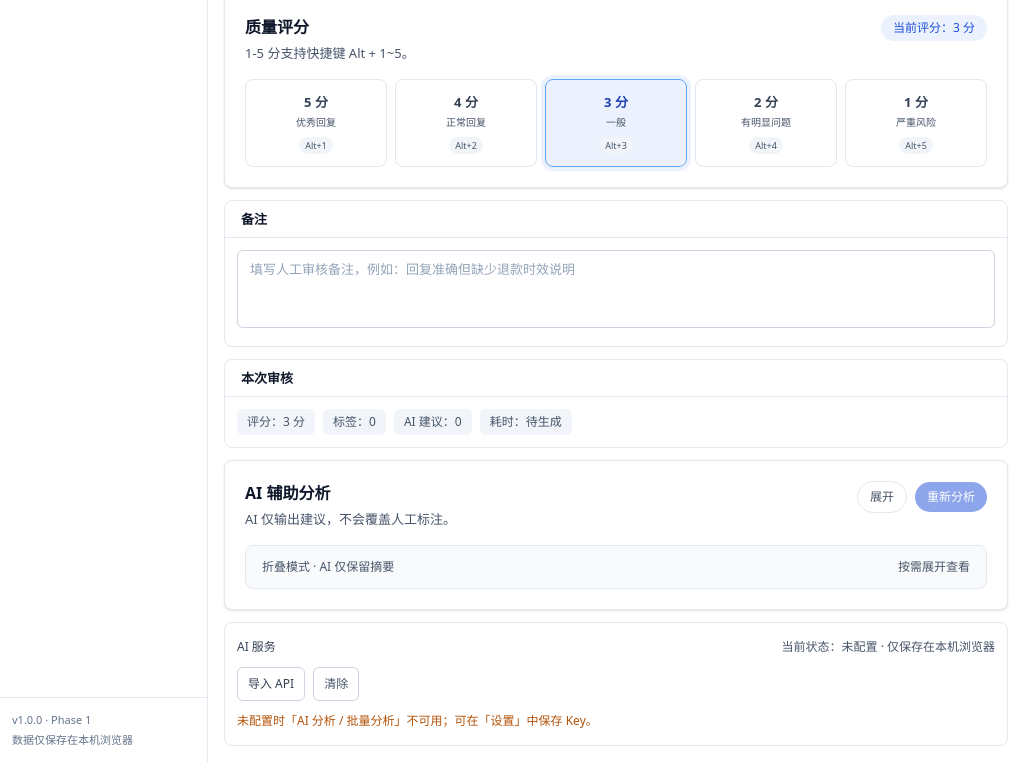
Test: F. AI 分析 › 点击「清除」→ Key 状态回到未配置、AI 分析按钮重新禁用
The image size is (1024, 762).
(page scrolled)
Click the button "导入 API": (271, 684) [237,667,305,701]
(page scrolled)
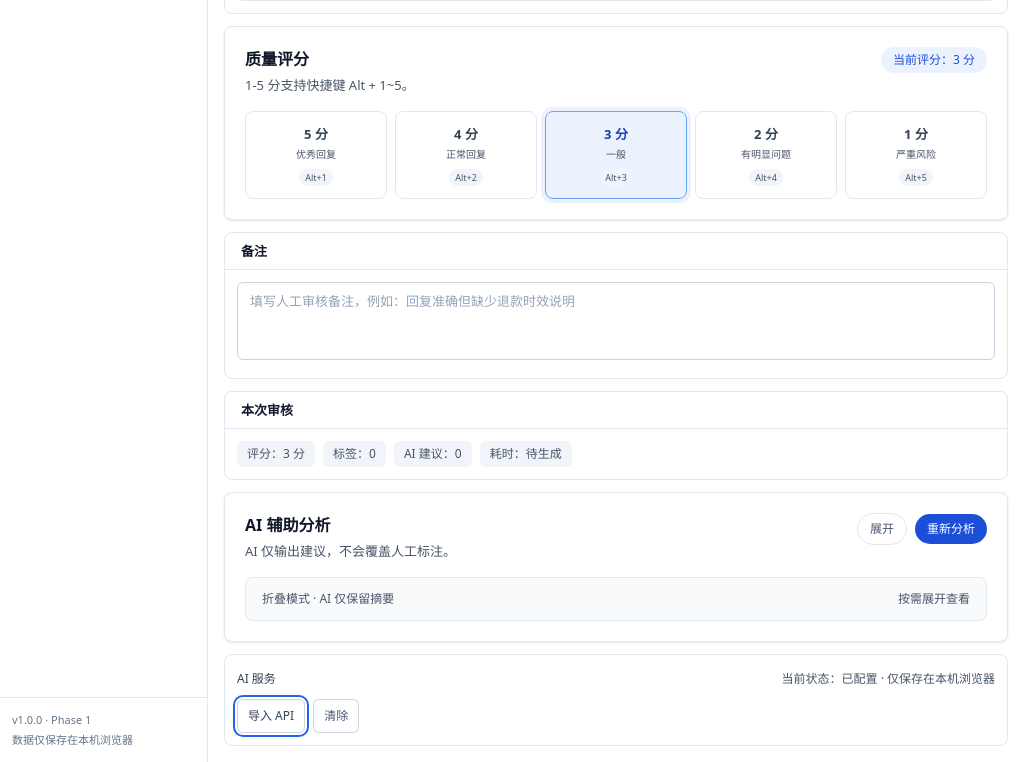
Expected: the text "当前状态：已配置 · 仅保存在本机浏览器" is shown, [782,667,995,691]
Click the button "清除": (336, 716) [313,699,359,733]
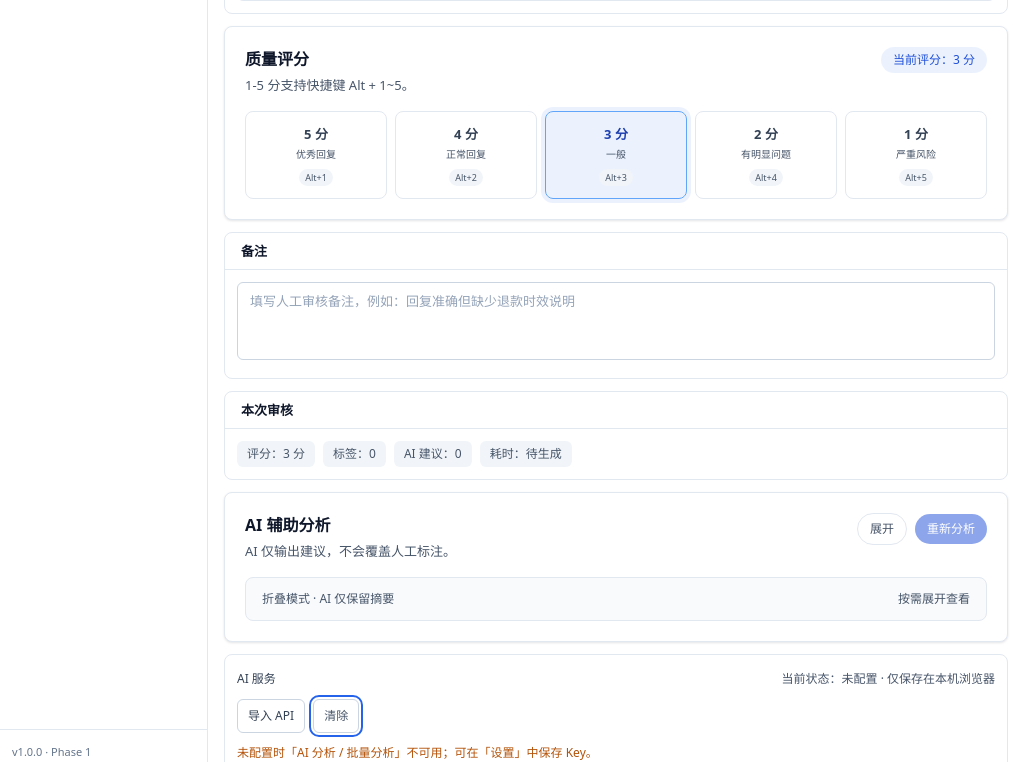
Expected: the text "当前状态：未配置 · 仅保存在本机浏览器" is shown, [782,667,995,691]
Expected: the button "重新分析" is disabled, [915,514,987,544]
